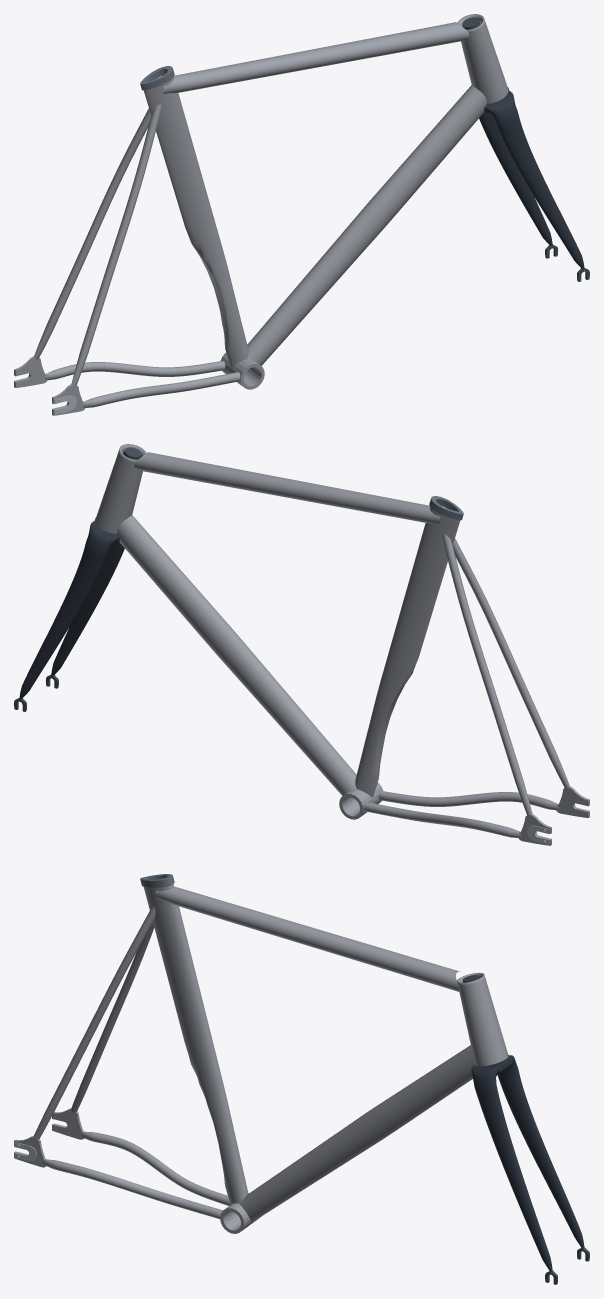
Rendered from cinelli-vigorelli-rainbow-l.glb.
The picture shows the model from 3 angles, top to bottom: view 1: azimuth 30°, elevation 25°; view 2: azimuth 150°, elevation 25°; view 3: azimuth 330°, elevation 25°; orthographic projection.
Visible parts, largest first — view 1: paint_down, paint_seat, paint_top, fork_blade_1, paint_seatstay_1, paint_head, paint_seatstay_-1, fork_blade_-1, paint_chainstay_-1, paint_chainstay_1, paint_bottom_bracket, rear_dropout_-1 (+2 smaller); view 2: paint_down, paint_seat, paint_top, fork_blade_-1, paint_seatstay_-1, paint_head, paint_seatstay_1, fork_blade_1, paint_chainstay_1, paint_chainstay_-1, paint_bottom_bracket, rear_dropout_1 (+2 smaller); view 3: paint_down, paint_seat, paint_top, fork_blade_1, paint_head, fork_blade_-1, paint_seatstay_1, paint_chainstay_1, paint_seatstay_-1, paint_chainstay_-1, fork_crown, paint_bottom_bracket (+1 smaller).
Boxes of the visible parts, x1,y1,x2,y2 form: paint_down: (247,85,486,365); paint_seat: (143,77,248,367); paint_top: (163,22,469,93); fork_blade_1: (497,114,584,269); paint_seatstay_1: (71,104,161,384); paint_head: (457,14,508,103); paint_seatstay_-1: (34,108,151,359); fork_blade_-1: (479,112,552,245); paint_chainstay_-1: (44,361,225,380); paint_chainstay_1: (82,372,240,407); paint_bottom_bracket: (220,352,264,389); rear_dropout_-1: (14,356,47,387); paint_down: (117,515,356,795); paint_seat: (355,507,460,797); paint_top: (134,452,440,523); fork_blade_-1: (19,544,106,699); paint_seatstay_-1: (442,534,532,814); paint_head: (95,444,146,533); paint_seatstay_1: (452,538,570,790); fork_blade_1: (51,542,124,675); paint_chainstay_1: (378,791,559,810); paint_chainstay_-1: (363,802,521,837); paint_bottom_bracket: (339,782,383,819); rear_dropout_1: (556,786,589,817); paint_down: (240,1045,475,1221); paint_seat: (143,884,248,1204); paint_top: (155,886,460,991); fork_blade_1: (475,1085,552,1271); paint_head: (457,972,508,1065); fork_blade_-1: (497,1069,584,1248); paint_seatstay_1: (33,906,155,1139); paint_chainstay_1: (43,1159,222,1219); paint_seatstay_-1: (71,922,154,1112); paint_chainstay_-1: (81,1131,230,1205); fork_crown: (471,1055,518,1088); paint_bottom_bracket: (220,1193,261,1233).
Bounding box in the file's own units: 1.03 × 0.6049 × 0.1443.
